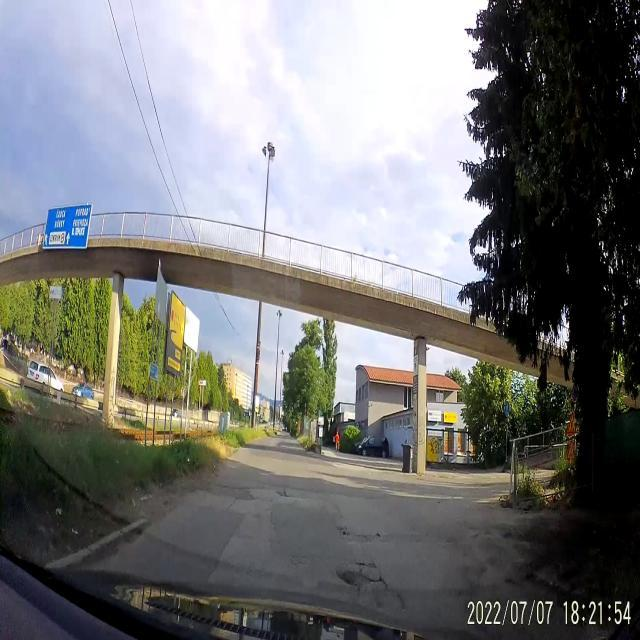Pothole: (330, 548, 390, 600), (336, 521, 386, 547), (272, 477, 294, 504)
